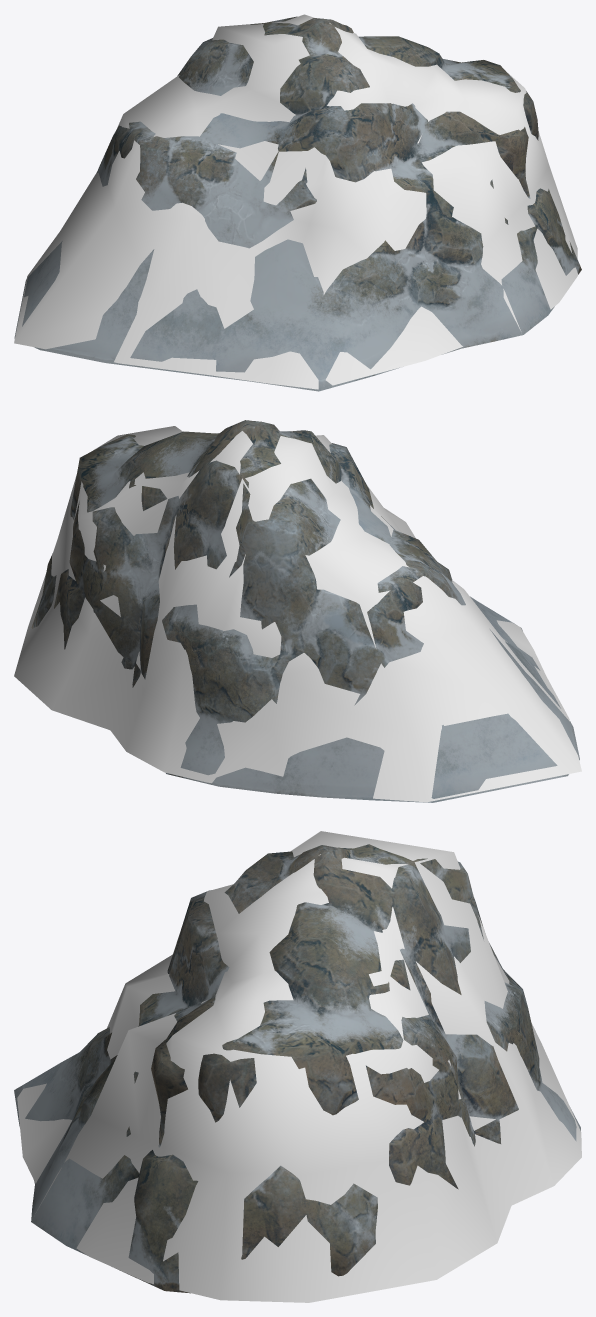
File: Scene_Rock_XueShanShi_4.FBX
3 views of the same model, one above another, from view 1: azimuth 30°, elevation 25°; view 2: azimuth 150°, elevation 25°; view 3: azimuth 270°, elevation 25° (orthographic). The views are drawn at different scales.
Visible parts, largest first — view 1: Scene_Rock_XueShanShi_4, Scene_Rock_XueShanShi_4_Xzm; view 2: Scene_Rock_XueShanShi_4_Xzm, Scene_Rock_XueShanShi_4; view 3: Scene_Rock_XueShanShi_4_Xzm, Scene_Rock_XueShanShi_4.
Part boxes in pixels (x1,y1,x2,y2): Scene_Rock_XueShanShi_4: (14, 16, 581, 391); Scene_Rock_XueShanShi_4_Xzm: (14, 14, 577, 389); Scene_Rock_XueShanShi_4_Xzm: (14, 426, 581, 802); Scene_Rock_XueShanShi_4: (31, 420, 579, 802); Scene_Rock_XueShanShi_4_Xzm: (17, 831, 581, 1302); Scene_Rock_XueShanShi_4: (14, 844, 580, 1293).
Bounding box in the file's own units: 4918 × 2244 × 3611.
Materials: 1 (1 with a texture image).
